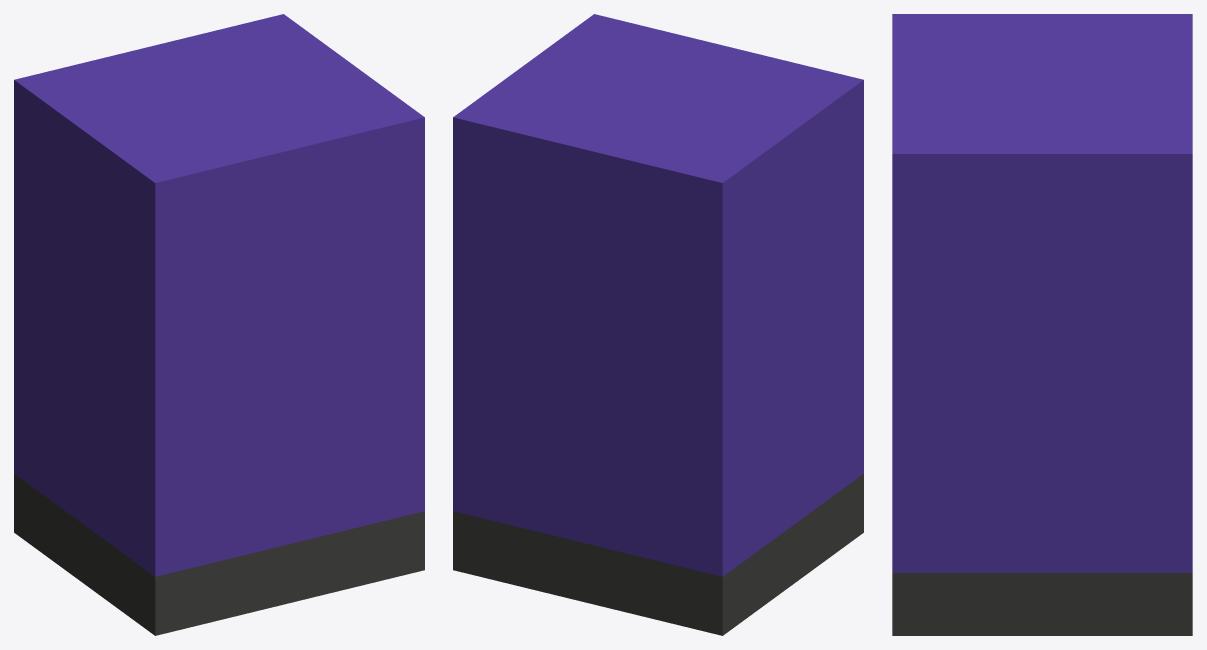
Rendered from noobioriginal-3.obj.
3 renders of one model, left to right at view 1: azimuth 30°, elevation 25°; view 2: azimuth 150°, elevation 25°; view 3: azimuth 270°, elevation 25°, orthographic. The views are drawn at different scales.
Bounding box in the file's own units: 4.3 × 6.9 × 3.9.
1 material, 1 textured.
